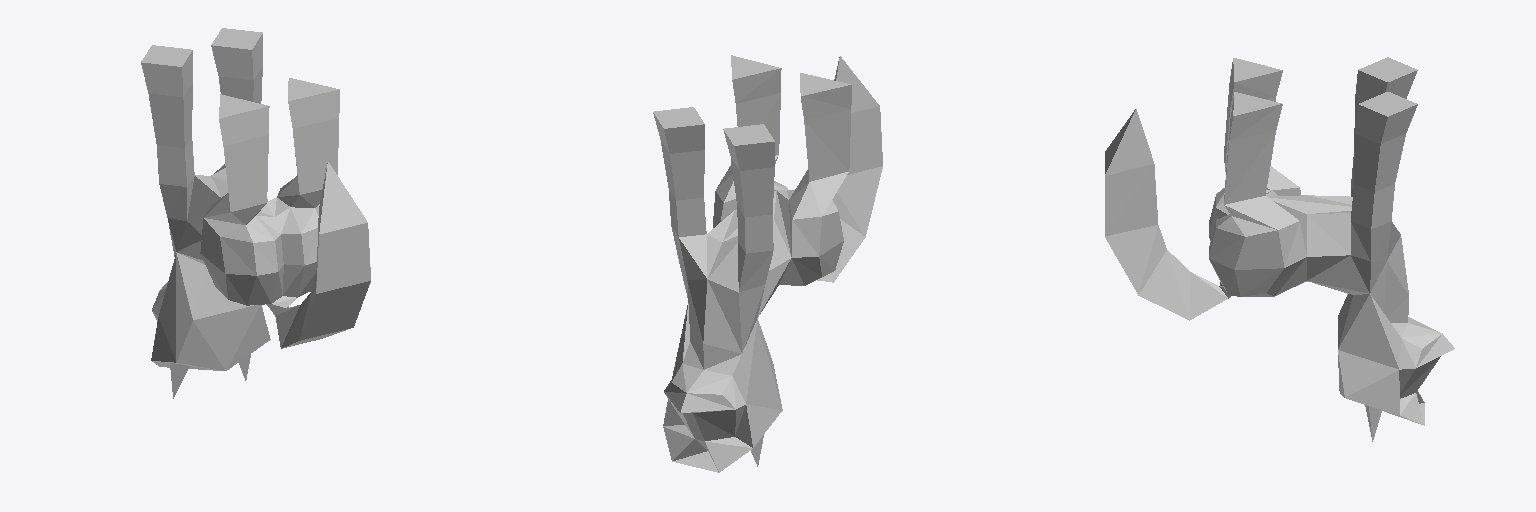
The model's file is PONY_000001.obj.
3 renders of one model, left to right at view 1: azimuth 30°, elevation 25°; view 2: azimuth 150°, elevation 25°; view 3: azimuth 270°, elevation 25°, orthographic.
Parts seen in each view (by area): view 1: pony; view 2: pony; view 3: pony.
Boxes of the visible parts, <box> form: pony: <box>141,28,370,398</box>; pony: <box>653,55,882,472</box>; pony: <box>1105,57,1454,441</box>.
Bounding box in the file's own units: 3.49 × 9.22 × 8.67.